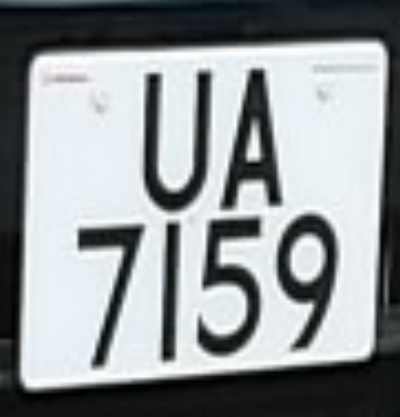1: (146, 211, 194, 371)
5: (190, 208, 271, 365)
7: (68, 208, 151, 383)
9: (267, 201, 347, 364)
A: (220, 54, 289, 219)
U: (132, 59, 217, 222)
